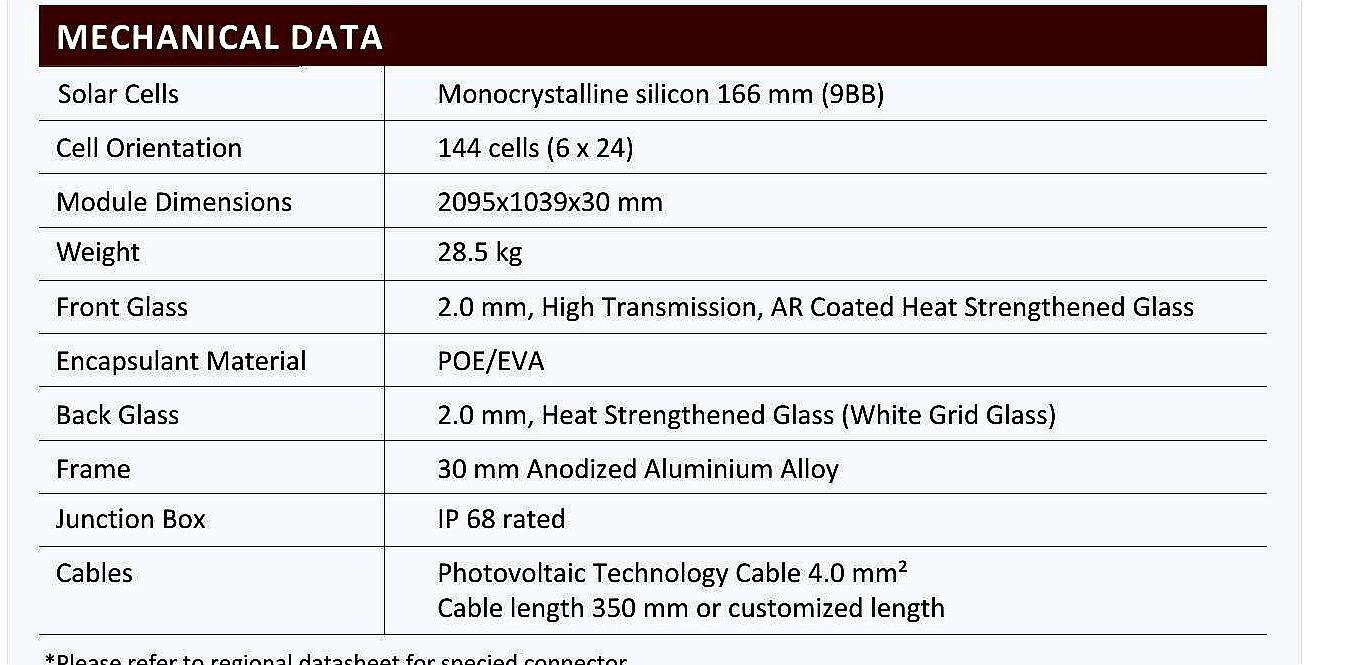table: (28, 6, 1291, 645)
table column: (387, 8, 1276, 635), (44, 7, 384, 633)
table row: (34, 547, 1278, 631), (40, 7, 1265, 64), (38, 228, 1271, 278), (39, 67, 1267, 117), (40, 389, 1273, 438), (38, 283, 1273, 331), (38, 176, 1269, 224), (38, 123, 1265, 171), (37, 443, 1276, 490), (34, 498, 1277, 544), (35, 337, 1273, 383)
table row header: (37, 7, 384, 633)
